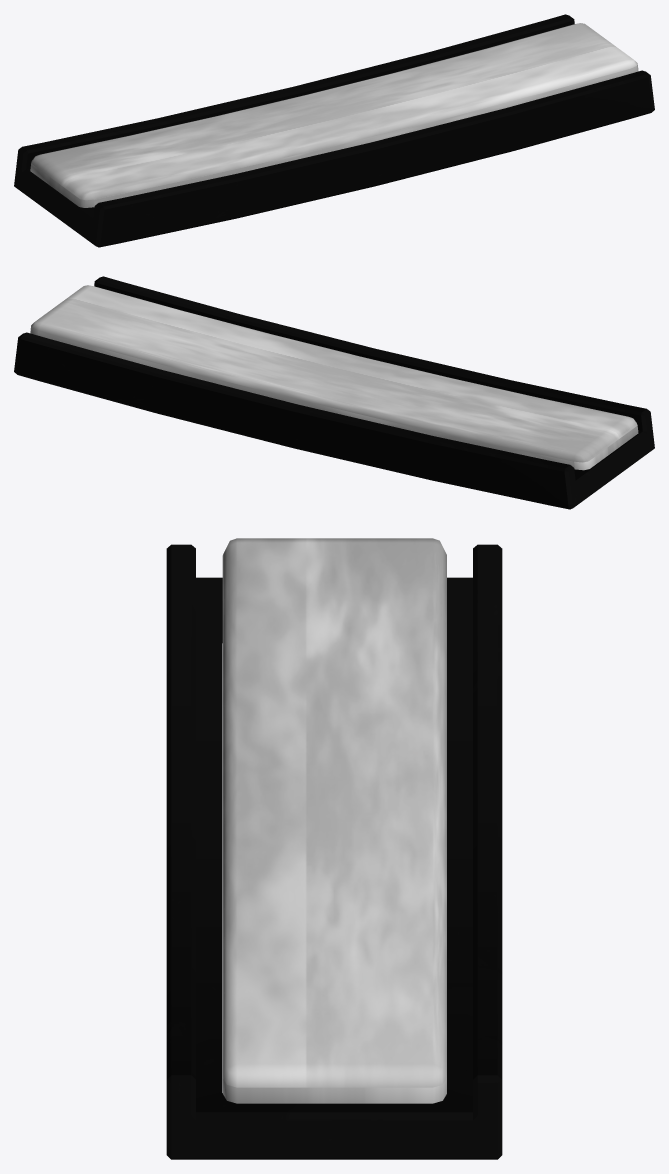
Rendered from HpGauge.fbx.
The picture shows the model from 3 angles, top to bottom: view 1: azimuth 30°, elevation 25°; view 2: azimuth 150°, elevation 25°; view 3: azimuth 270°, elevation 25°; orthographic projection. The views are drawn at different scales.
Visible parts, largest first — view 1: LOD_1_Group_0_Sub_3__HPgauge, LOD_1_Group_0_Sub_1__HPgaugeBase; view 2: LOD_1_Group_0_Sub_3__HPgauge, LOD_1_Group_0_Sub_1__HPgaugeBase; view 3: LOD_1_Group_0_Sub_3__HPgauge, LOD_1_Group_0_Sub_1__HPgaugeBase.
Boxes of the visible parts, bbox=[...] form: LOD_1_Group_0_Sub_3__HPgauge: bbox=[30, 23, 638, 207]; LOD_1_Group_0_Sub_1__HPgaugeBase: bbox=[14, 14, 654, 247]; LOD_1_Group_0_Sub_3__HPgauge: bbox=[30, 285, 638, 470]; LOD_1_Group_0_Sub_1__HPgaugeBase: bbox=[14, 276, 654, 509]; LOD_1_Group_0_Sub_3__HPgauge: bbox=[222, 538, 446, 1103]; LOD_1_Group_0_Sub_1__HPgaugeBase: bbox=[166, 544, 502, 1159].
Bounding box in the file's own units: 73.7 × 6.2 × 19.16.
